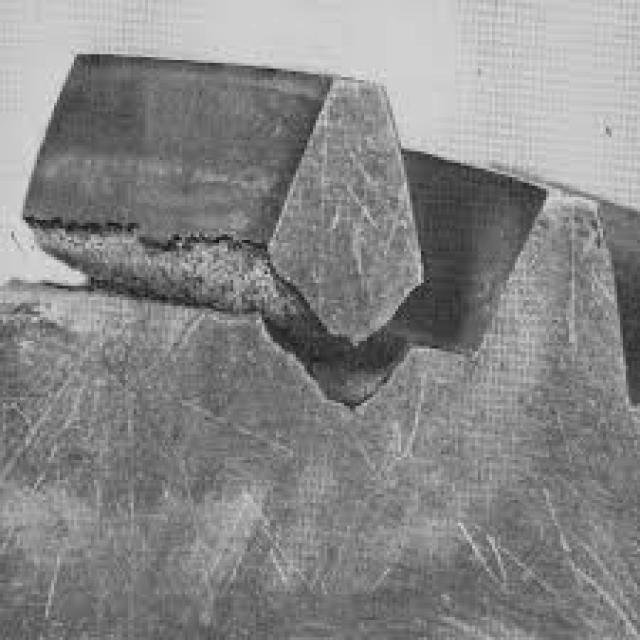Fault-Exist: (37, 35, 624, 530)
